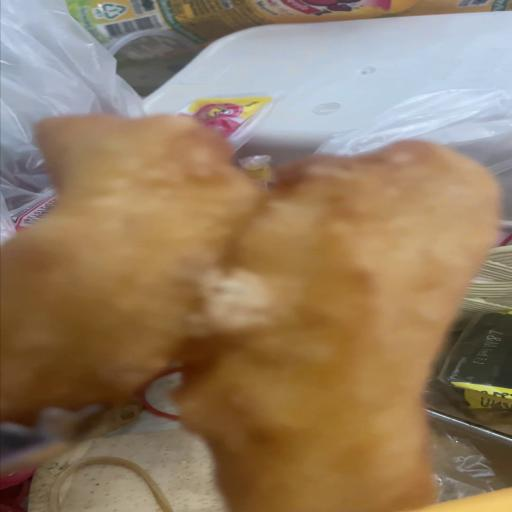street_burnt_defect: (0, 125, 503, 512)
